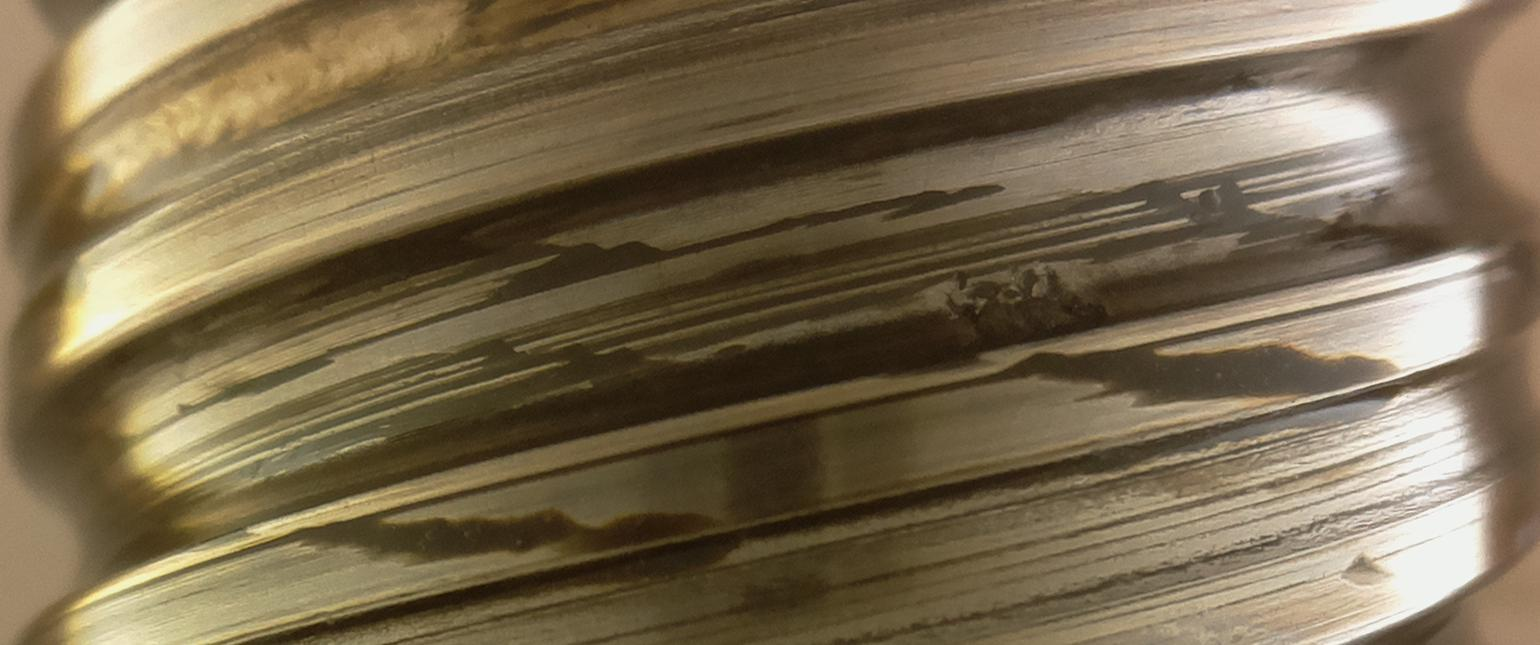pitting: (942, 268, 1107, 352)
